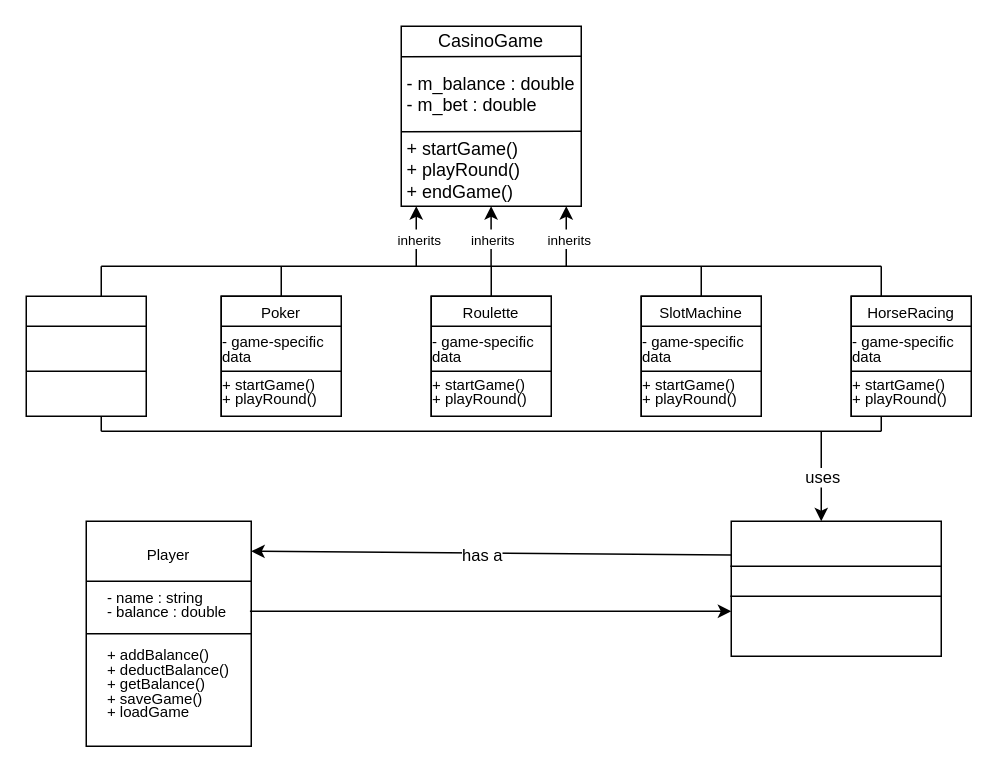
Some shapes in this 999 by 773 pixel diagram are drawn without their labels. Each missing label, with the centre of its shape:
"Blackjack - game-specific data + startGame() + playRound()" goes at (85,355).
"GameManager - currentGame : CasinoGame* + selectGame() + runGame()" goes at (835,588).
